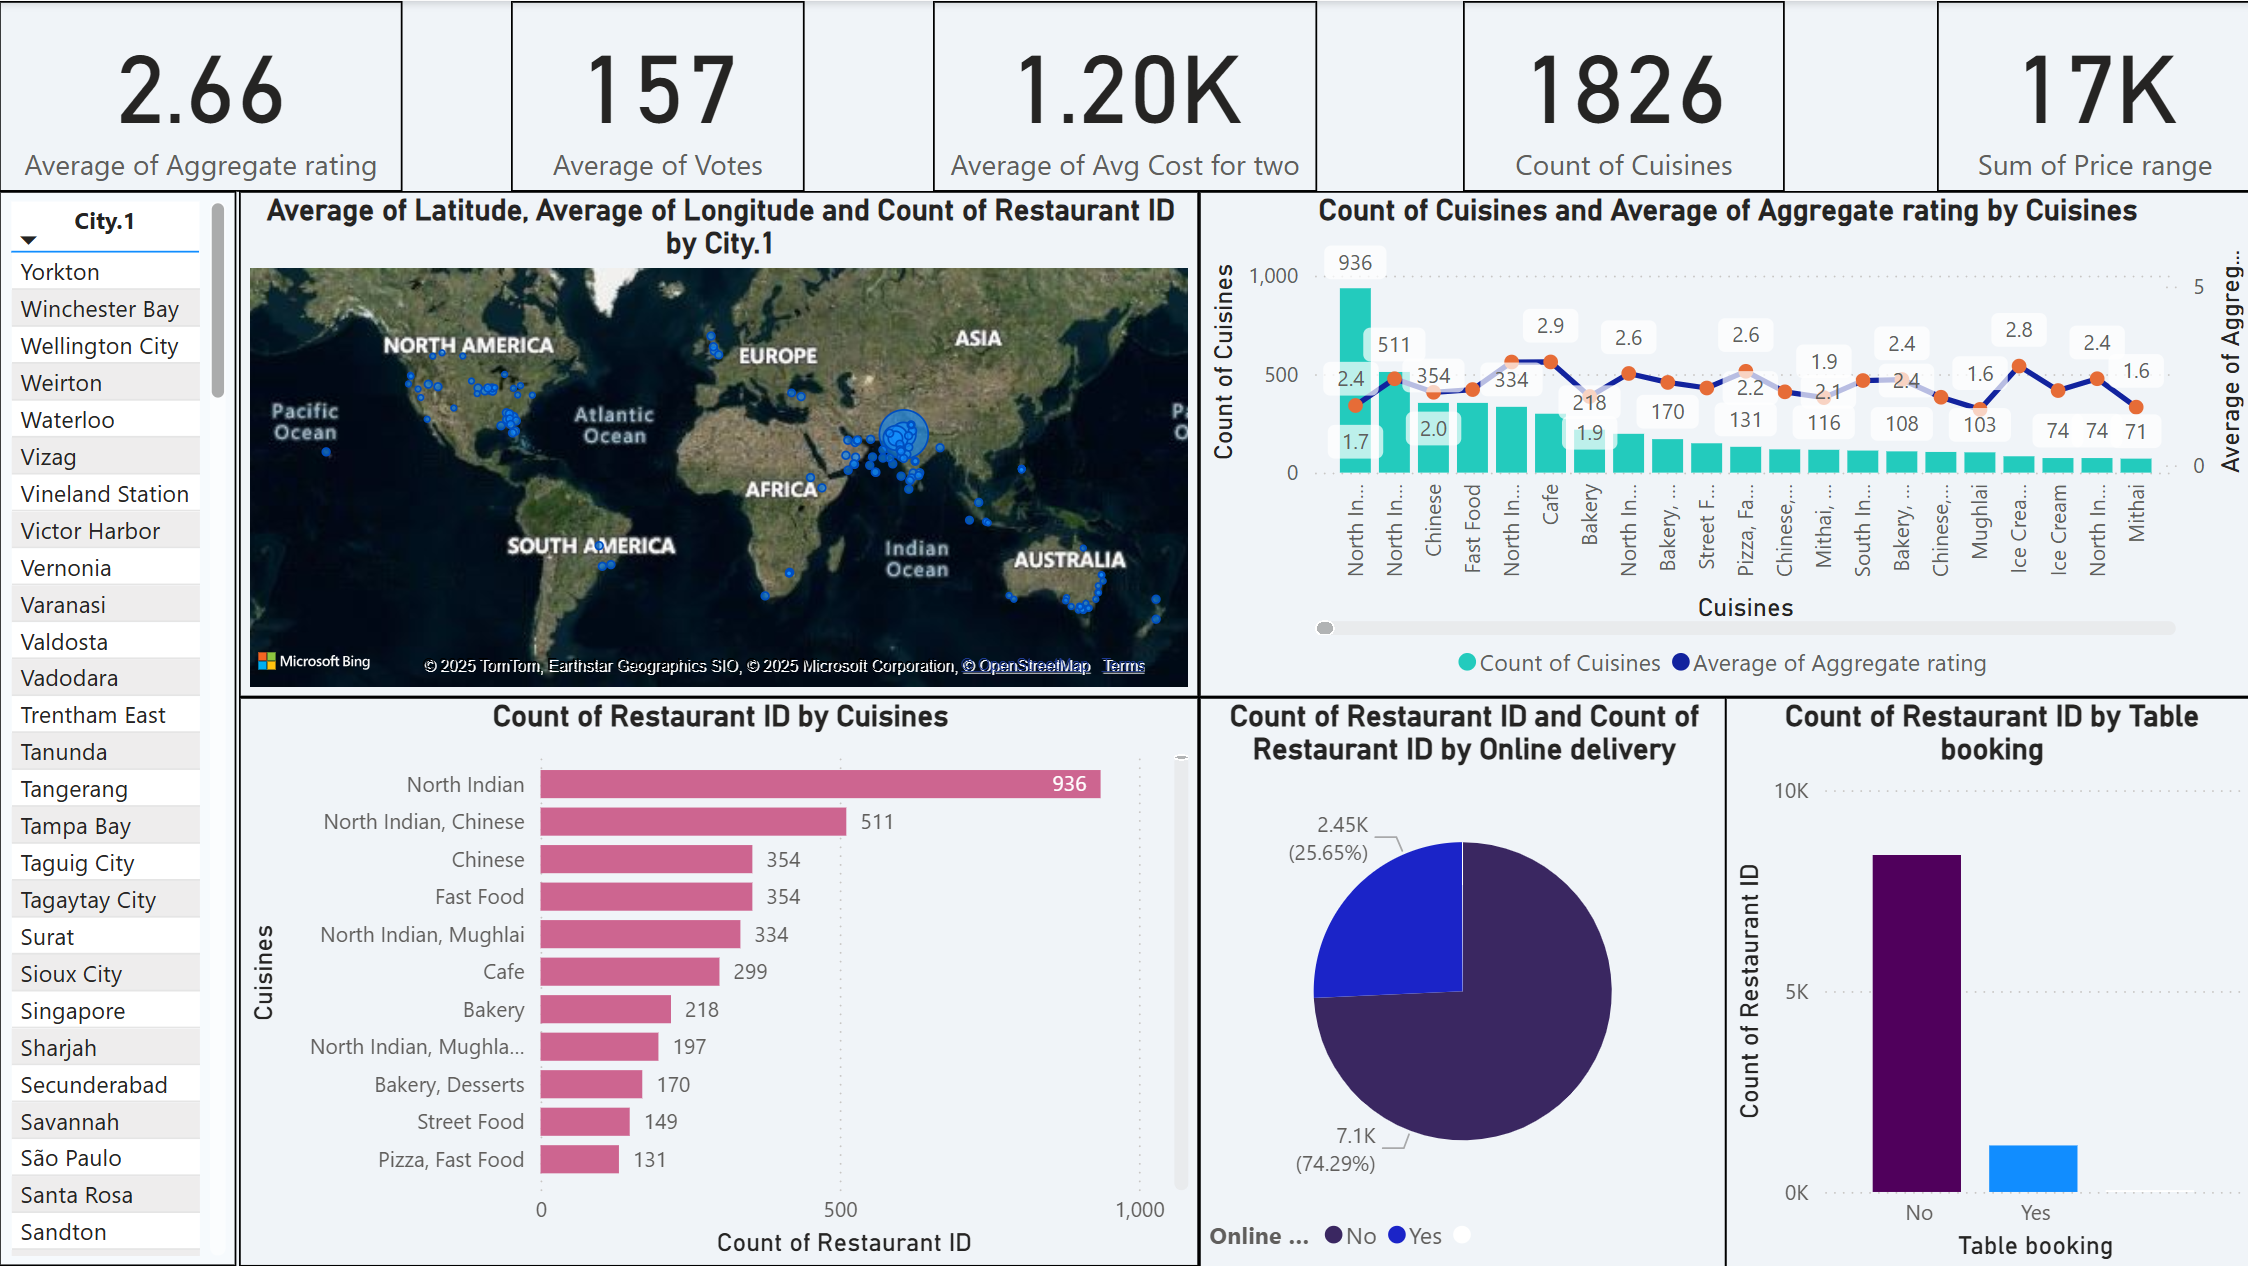

What the dashboard file says about the page in this screenshot:
{"tool":"powerbi","page":{"name":"Page 1","canvas":[1280,720],"ordinal":0},"visuals":[{"type":"card","fields":{"Values":["Avg(Dataset.Aggregate rating)"]},"box":[0,0,229.5,108.4],"z":0},{"type":"card","fields":{"Values":["Avg(Dataset.Avg Cost for two)"]},"box":[531.4,0,218.6,108.6],"z":1000},{"type":"card","fields":{"Values":["Sum(Dataset.Price range)"]},"box":[1101.8,0,179.8,108.6],"z":2000},{"type":"card","fields":{"Values":["Avg(Dataset.Votes)"]},"box":[291.6,0,166.9,108.6],"z":3000},{"type":"card","fields":{"Values":["Count(Dataset.Cuisines)"]},"box":[832.8,0,183.1,108.6],"z":4000},{"type":"tableEx","fields":{"Values":["Dataset.City.1"]},"box":[0,108.3,135,611.7],"z":5000},{"type":"lineStackedColumnComboChart","fields":{"Category":["Dataset.Cuisines"],"Y":["CountNonNull(Dataset.Cuisines)"],"Y2":["Avg(Dataset.Aggregate rating)"]},"box":[682,108,600,288],"z":6000},{"type":"map","fields":{"Size":["CountNonNull(Dataset.Restaurant ID)"],"X":["Avg(Dataset.Longitude)"],"Y":["Avg(Dataset.Latitude)"],"Category":["Dataset.City.1"]},"box":[136,108,546,288],"z":7000},{"type":"clusteredBarChart","fields":{"Category":["Dataset.Cuisines"],"Y":["CountNonNull(Dataset.Restaurant ID)"]},"box":[136,396,546,324],"z":8000},{"type":"pieChart","fields":{"Category":["Dataset.Online delivery"],"Y":["CountNonNull(Dataset.Restaurant ID)"]},"box":[682,396,300,326],"z":9000},{"type":"clusteredColumnChart","fields":{"Category":["Dataset.Table booking"],"Y":["CountNonNull(Dataset.Restaurant ID)"]},"box":[982,396,302,326],"z":10000}]}

Visuals, with their boxes in screenshot pixels (x1, y1, x2, y2), scaled from the page's 1280x720 canvas onto the 2248x1266 screenshot:
card - Avg(Dataset.Aggregate rating): {"x1": 0, "y1": 0, "x2": 403, "y2": 191}
card - Avg(Dataset.Avg Cost for two): {"x1": 933, "y1": 0, "x2": 1317, "y2": 191}
card - Sum(Dataset.Price range): {"x1": 1935, "y1": 0, "x2": 2247, "y2": 191}
card - Avg(Dataset.Votes): {"x1": 512, "y1": 0, "x2": 805, "y2": 191}
card - Count(Dataset.Cuisines): {"x1": 1463, "y1": 0, "x2": 1784, "y2": 191}
tableEx - Dataset.City.1: {"x1": 0, "y1": 190, "x2": 237, "y2": 1265}
lineStackedColumnComboChart - Dataset.Cuisines x CountNonNull(Dataset.Cuisines): {"x1": 1198, "y1": 190, "x2": 2247, "y2": 696}
map - CountNonNull(Dataset.Restaurant ID) x Avg(Dataset.Longitude): {"x1": 239, "y1": 190, "x2": 1198, "y2": 696}
clusteredBarChart - Dataset.Cuisines x CountNonNull(Dataset.Restaurant ID): {"x1": 239, "y1": 696, "x2": 1198, "y2": 1265}
pieChart - Dataset.Online delivery x CountNonNull(Dataset.Restaurant ID): {"x1": 1198, "y1": 696, "x2": 1725, "y2": 1265}
clusteredColumnChart - Dataset.Table booking x CountNonNull(Dataset.Restaurant ID): {"x1": 1725, "y1": 696, "x2": 2247, "y2": 1265}
